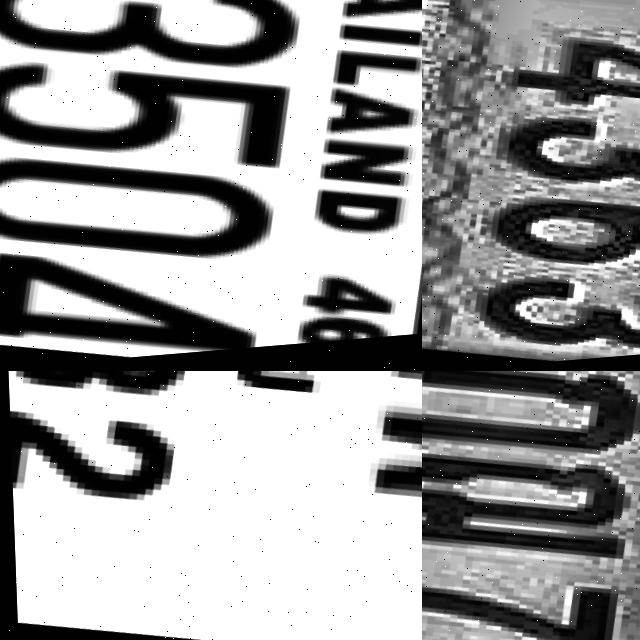license-plate: (0, 0, 422, 371), (0, 371, 422, 640), (422, 0, 640, 371), (422, 371, 640, 640)
